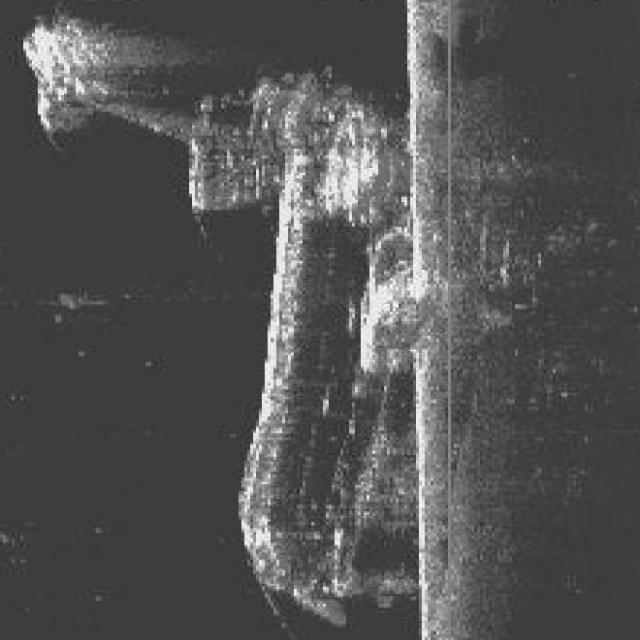plane: (20, 22, 518, 608)
